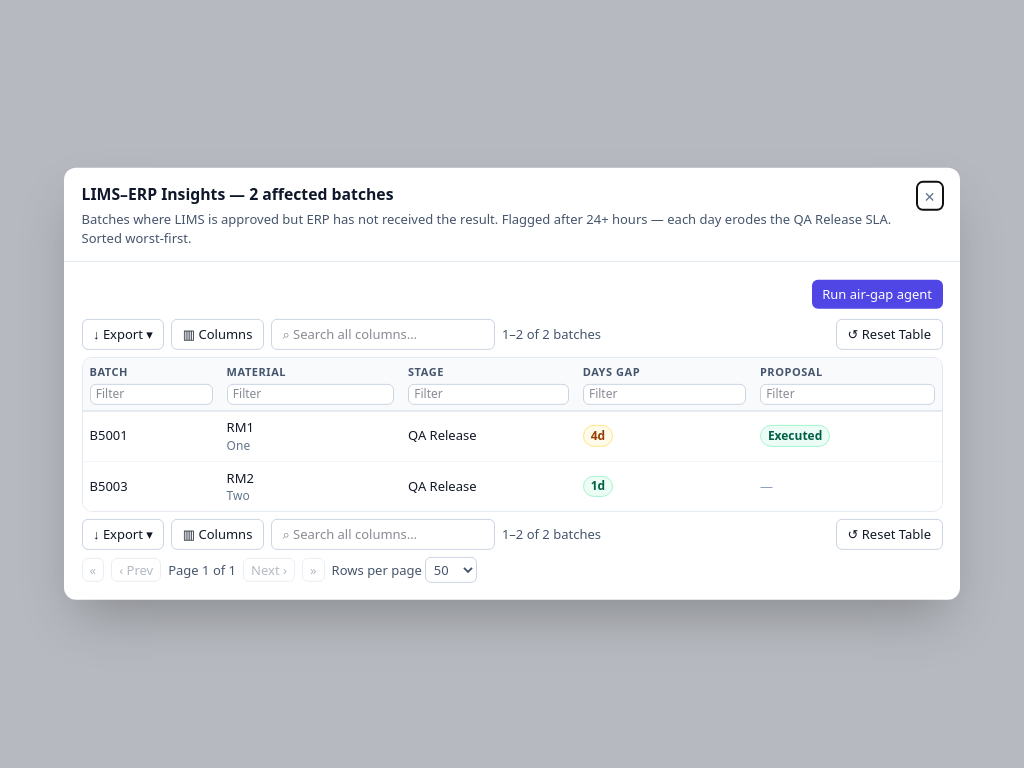
Scenario: F12-FR-13: the Run air-gap agent button runs the agent, for QA release and admin only
Click the button "Run air-gap agent". click: (877, 294)
box: [812, 280, 943, 309]
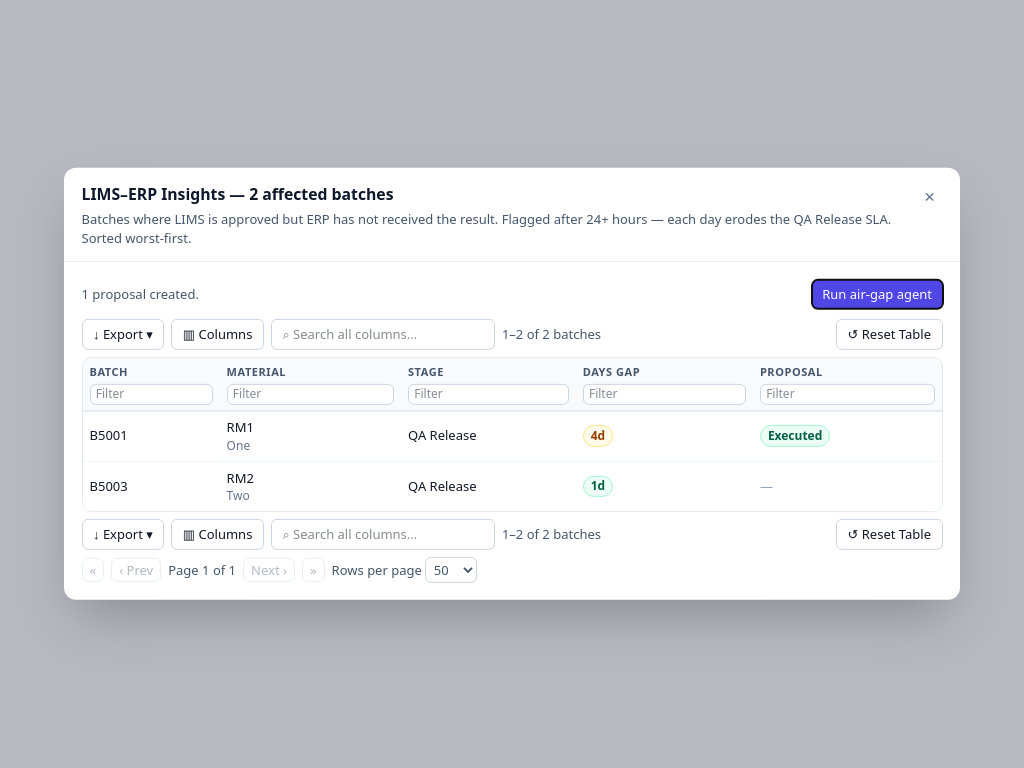
Check: the text with test id "run-result" reads "1 proposal created.", box [82, 285, 199, 303]
